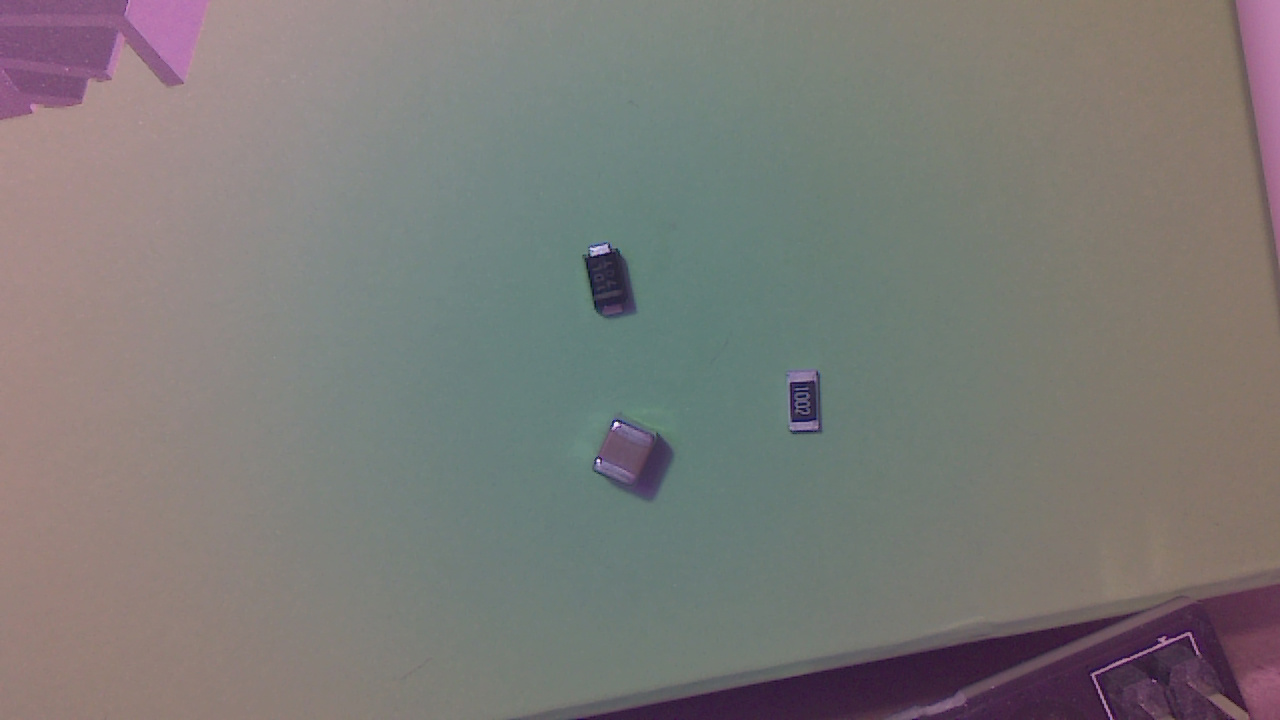Condensator: (598, 420, 666, 491)
Diode: (588, 245, 638, 322)
Resistor: (789, 372, 829, 438)
